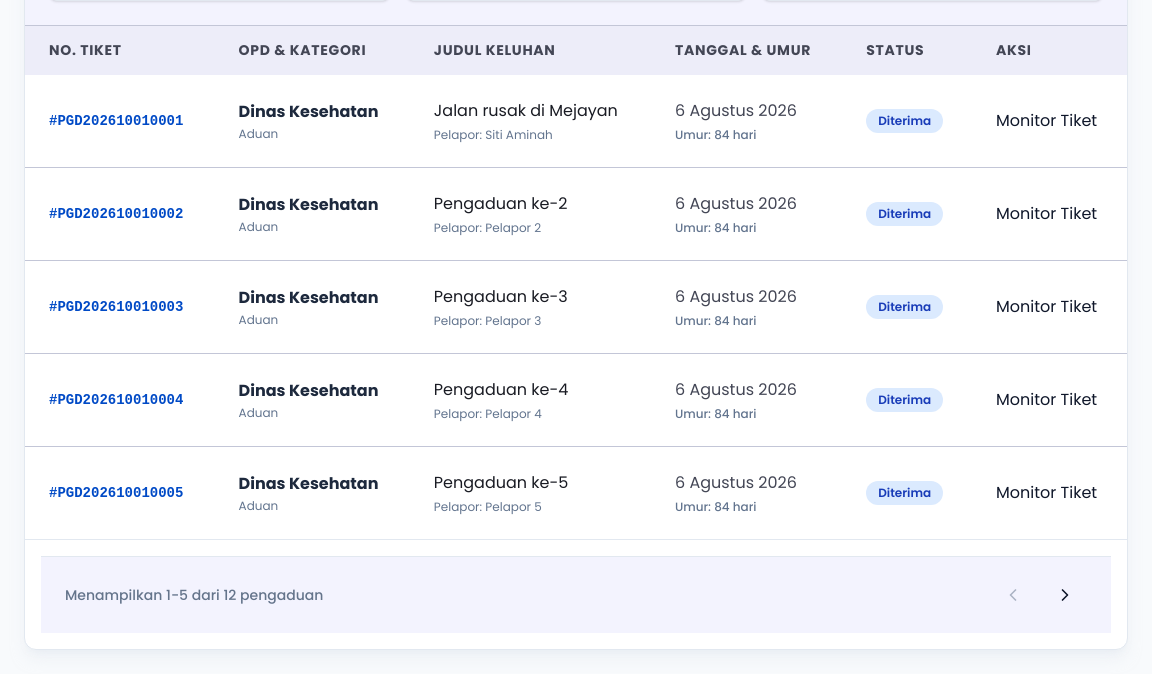
Scenario: AdminKabComplaintsPage — paginasi dan penyaring di klien › memotong satu halaman menjadi lima baris dan menyebut angka yang benar
(page scrolled)
Expected: the text "Jalan rusak di Mejayan" is shown, [434,99,627,123]
Expected: the text "Menampilkan 1-5 dari 12 pengaduan" is shown, [65,585,323,605]
Click the button named "Halaman berikutnya" at (1065, 595), box [1043,573,1087,617]
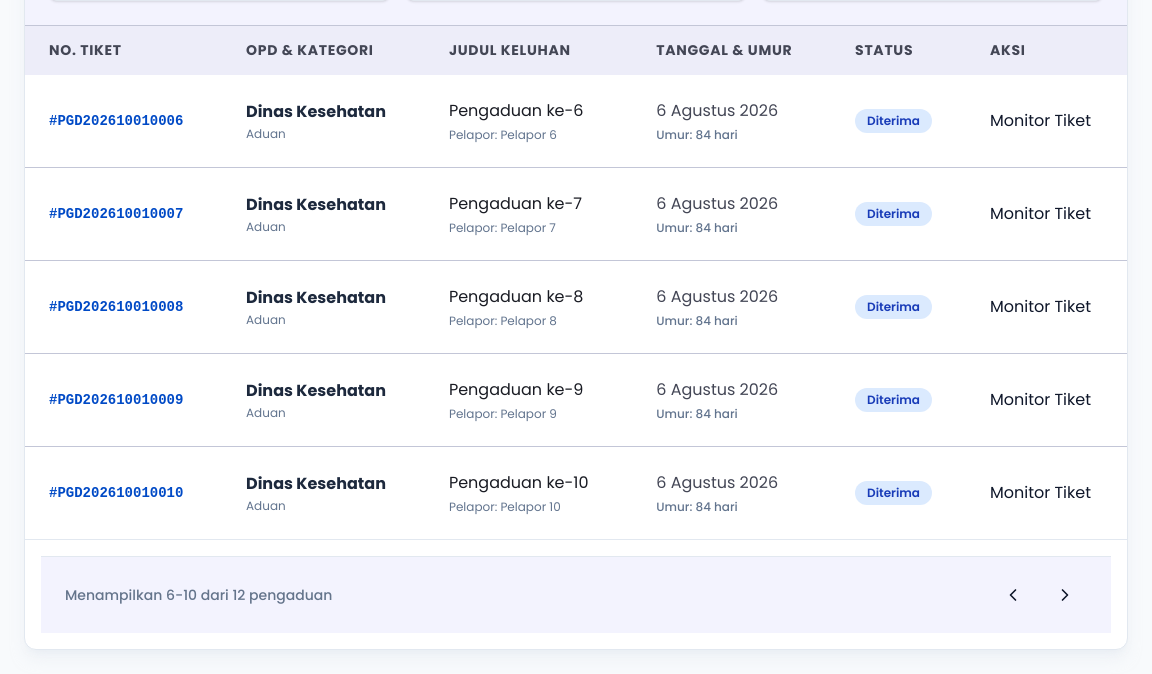
Expected: the text "Pengaduan ke-6" is shown, [449,99,584,122]
Expected: the text "Menampilkan 6-10 dari 12 pengaduan" is shown, [65,585,332,605]
